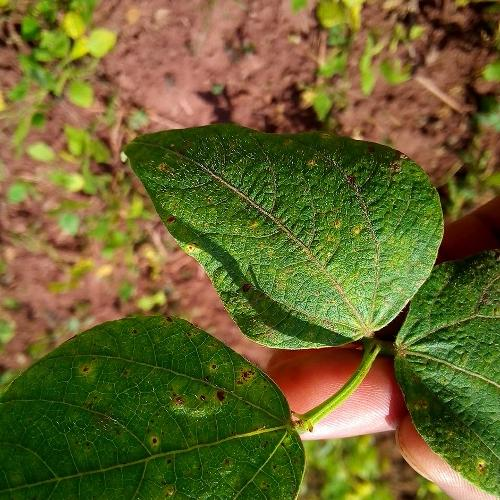hawar: (132, 340, 254, 418), (161, 197, 221, 262), (298, 146, 364, 190)
mozaik: (242, 205, 416, 304)
